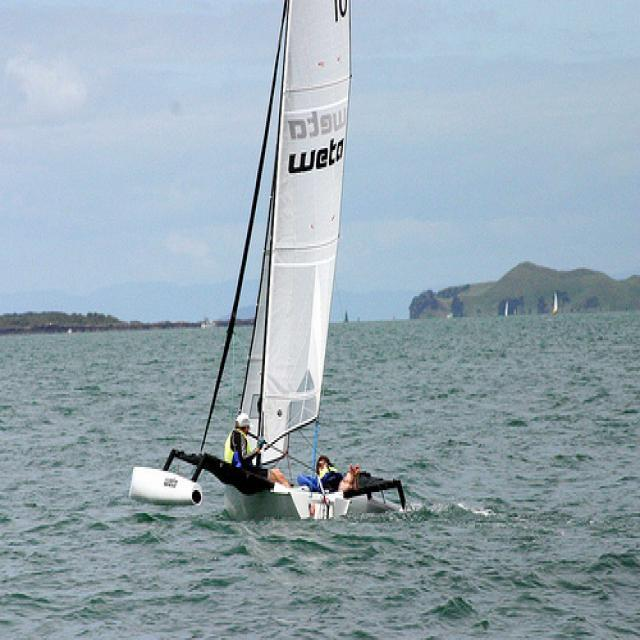Ship: (120, 3, 408, 534)
